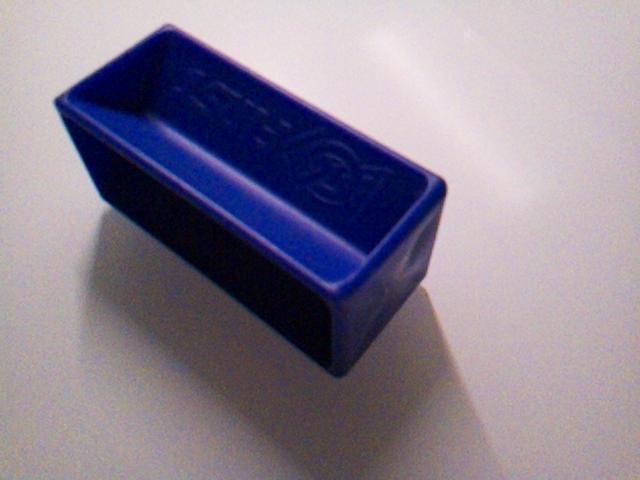blue: (53, 22, 449, 378)
